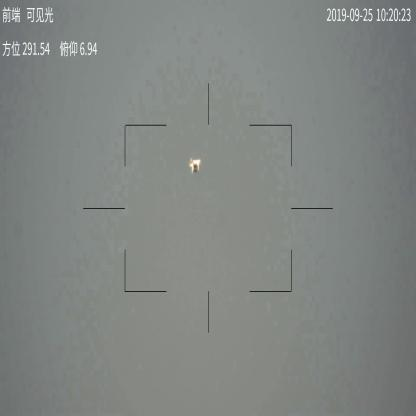uav: (186, 155, 204, 174)
